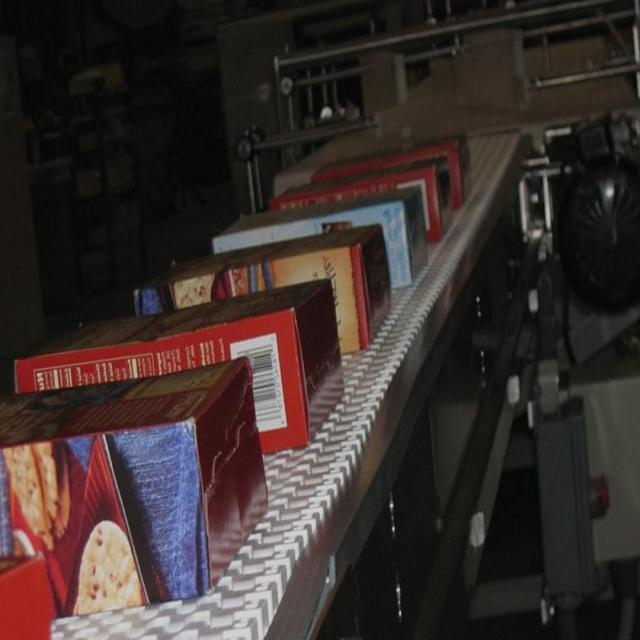food: (1, 353, 270, 618), (12, 278, 344, 454), (132, 222, 392, 358)
